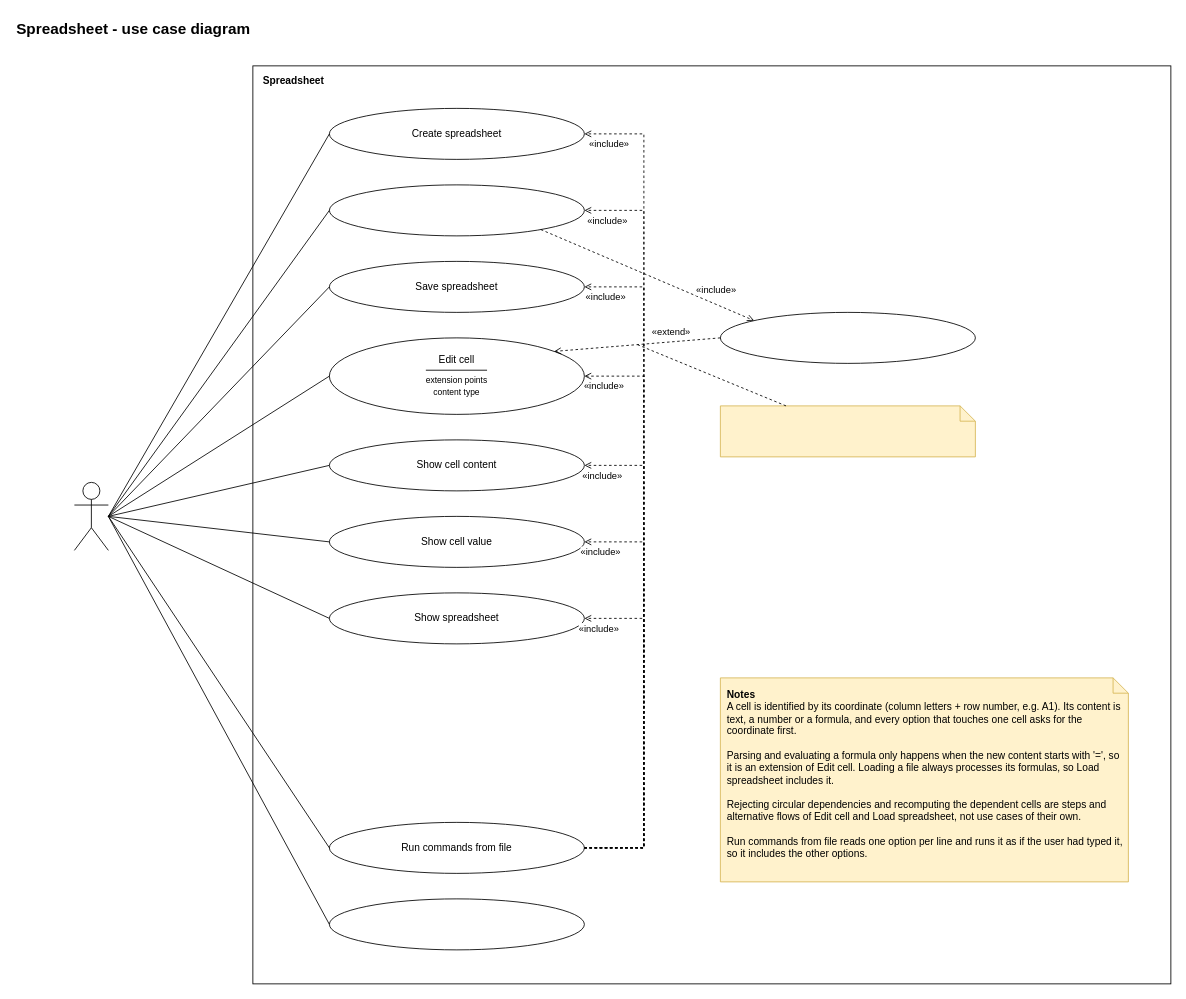
Some shapes in this 1186 by 999 pixel diagram are drawn without their labels. The shapes that lost their labels are listed below. From the top down, each one's box as (x1, y1, x2, y2) in pixels, then its label:
(329, 184, 584, 236): Load spreadsheet
(720, 312, 975, 363): Process formula
(720, 405, 975, 457): Condition: {content starts with '='} extension point: content type
(74, 482, 108, 550): User
(329, 898, 584, 950): Exit
